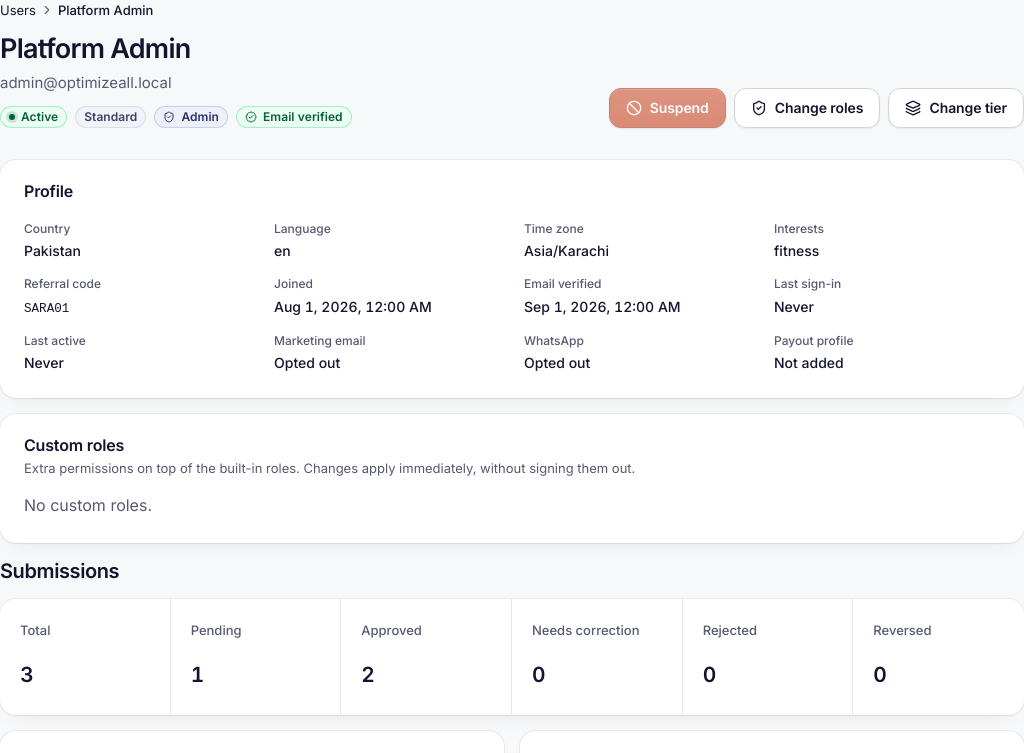
Test: User detail — roles › shows the server error when removing your own Admin role
This screenshot has width=1024, height=753.
Click the button "Change roles". click: (807, 108)
box: top-left (734, 88), bottom-right (880, 128)
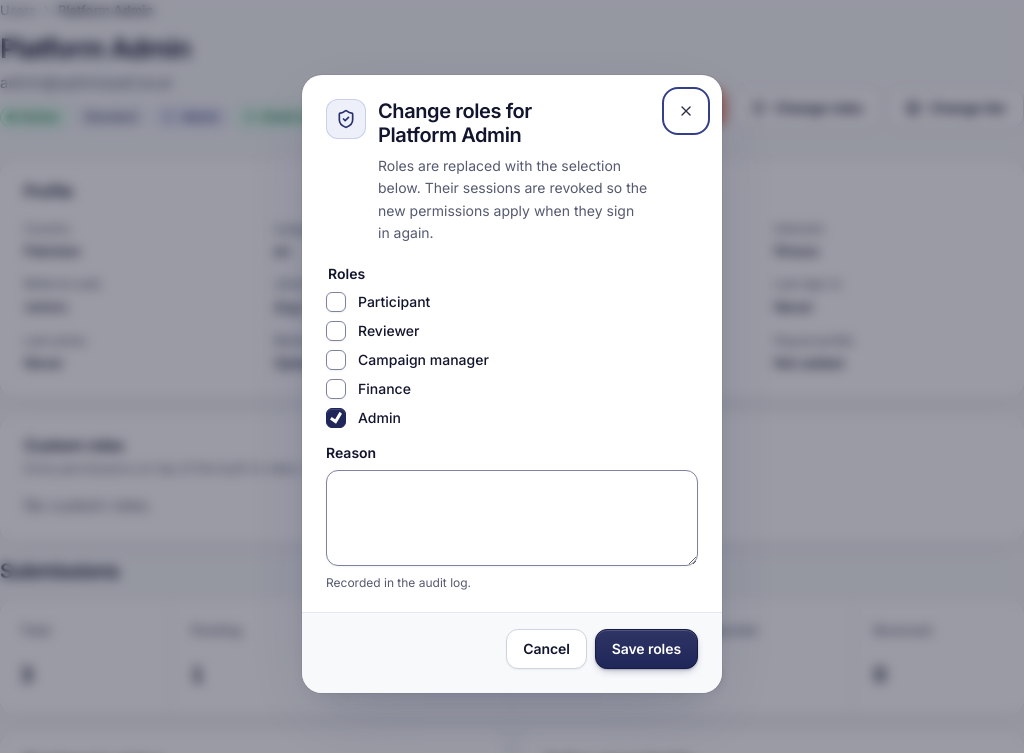
Click the checkbox labelled "Admin". click: (336, 418)
box: top-left (326, 408), bottom-right (346, 428)
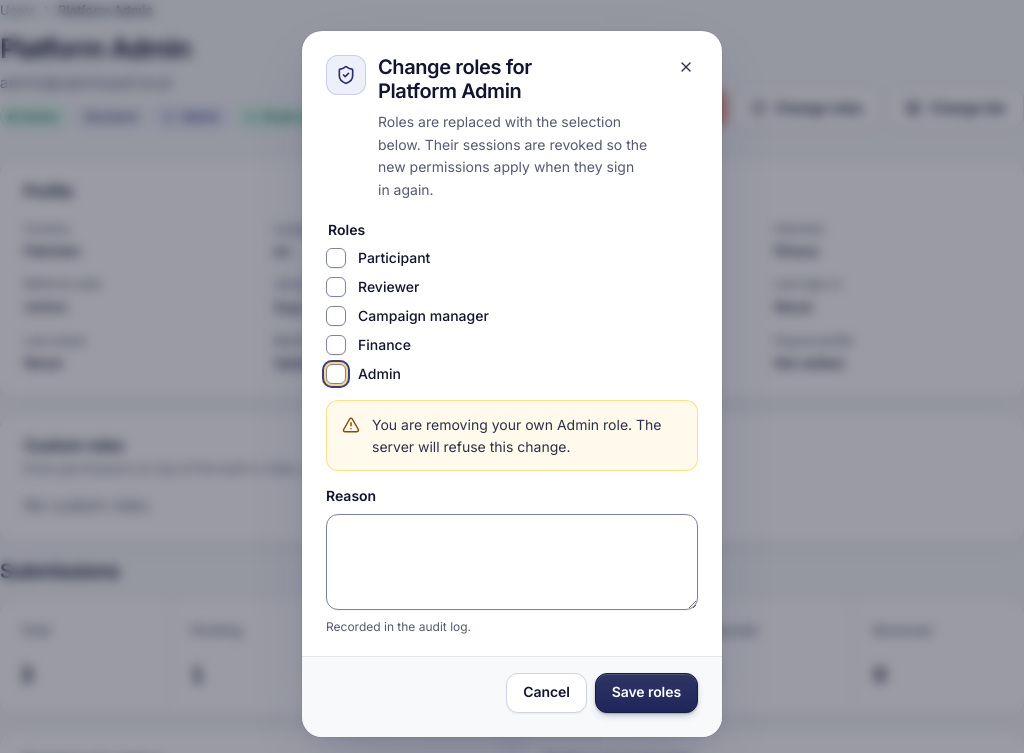
Click the checkbox labelled "Reviewer". click: (336, 287)
box: top-left (326, 277), bottom-right (346, 297)
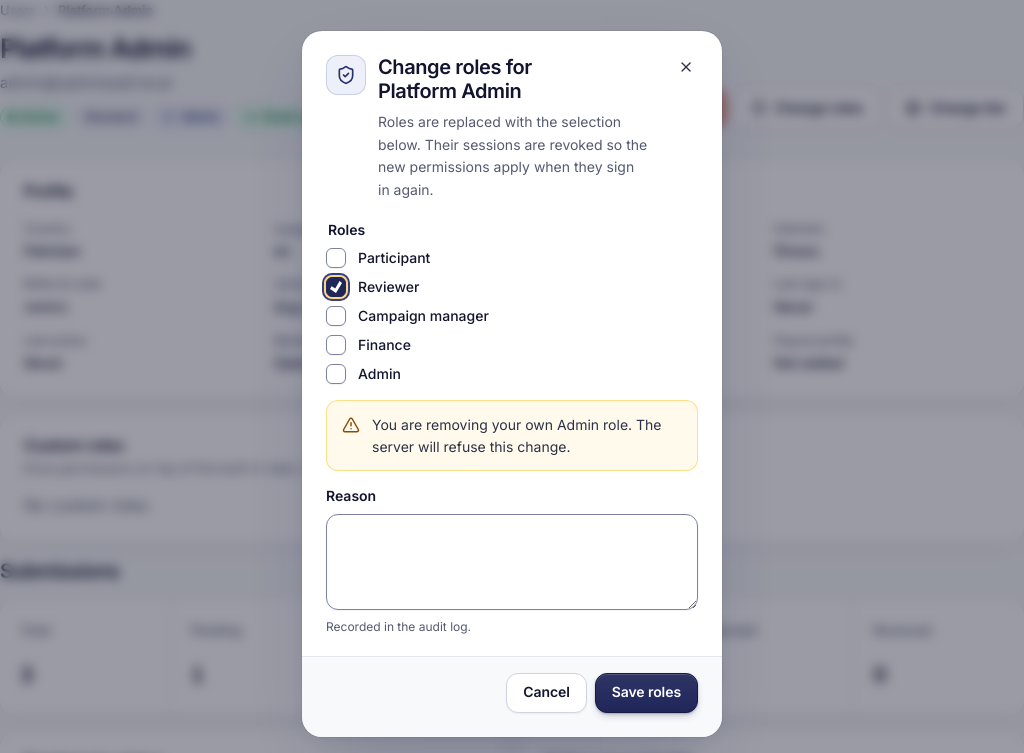
Result: the text "removing your own Admin role" is shown at top-left (372, 416), bottom-right (662, 455)
Type "Stepping down" into the text box labelled "Reason". click: (512, 562)
box: top-left (326, 514), bottom-right (698, 610)
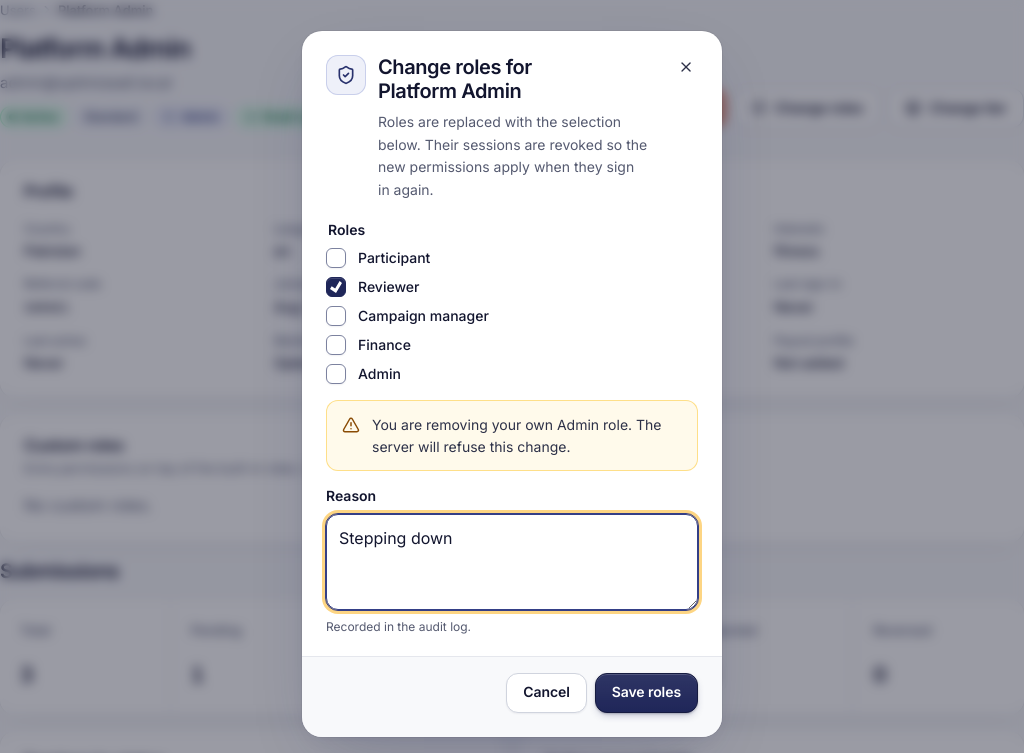
Click the button "Save roles". click: (646, 693)
box: top-left (595, 673), bottom-right (698, 713)
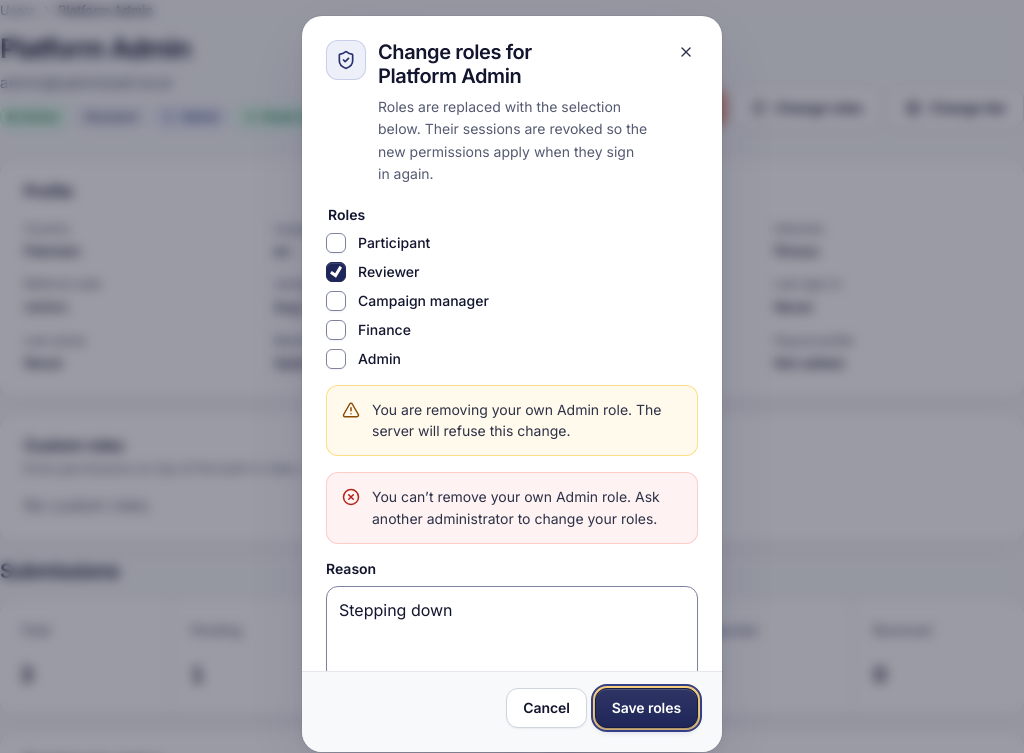
Result: the message shows "can’t remove your own Admin role" at top-left (372, 488), bottom-right (660, 527)
